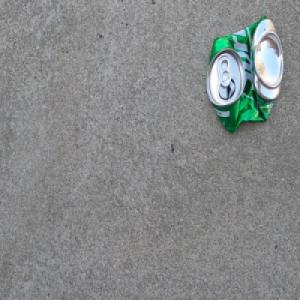SodaCan: (205, 14, 284, 134)
